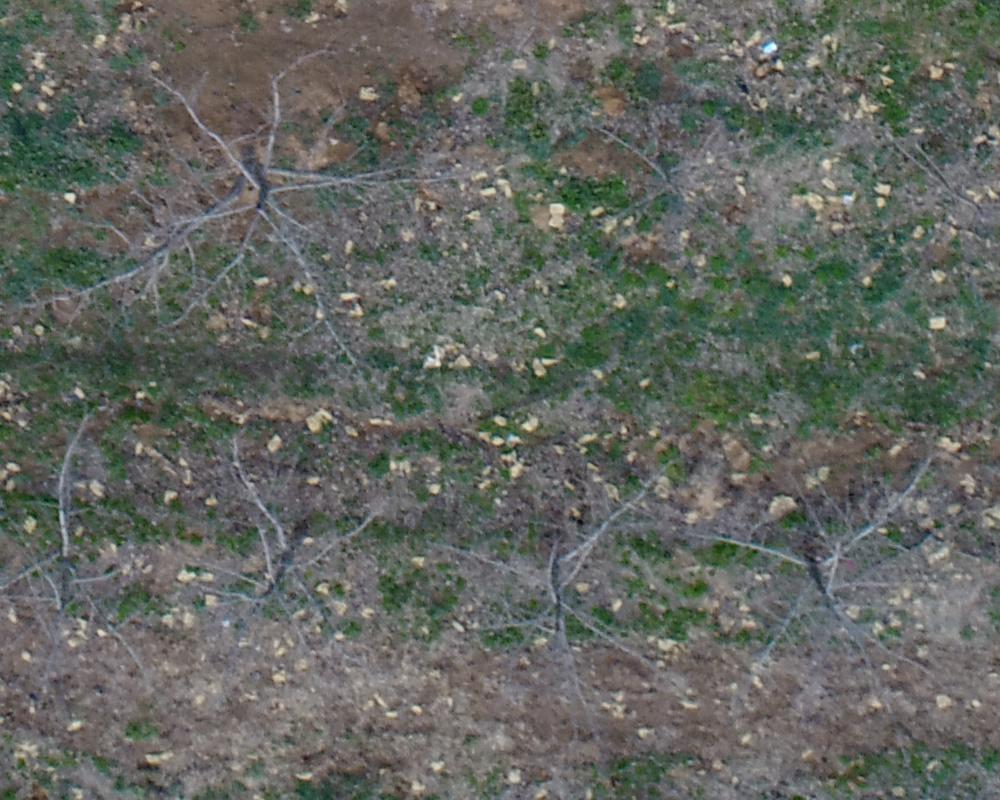apple: (37, 52, 402, 352), (708, 438, 966, 680), (456, 466, 689, 703), (10, 378, 158, 678), (191, 436, 397, 645), (591, 76, 782, 256), (859, 110, 990, 281)
